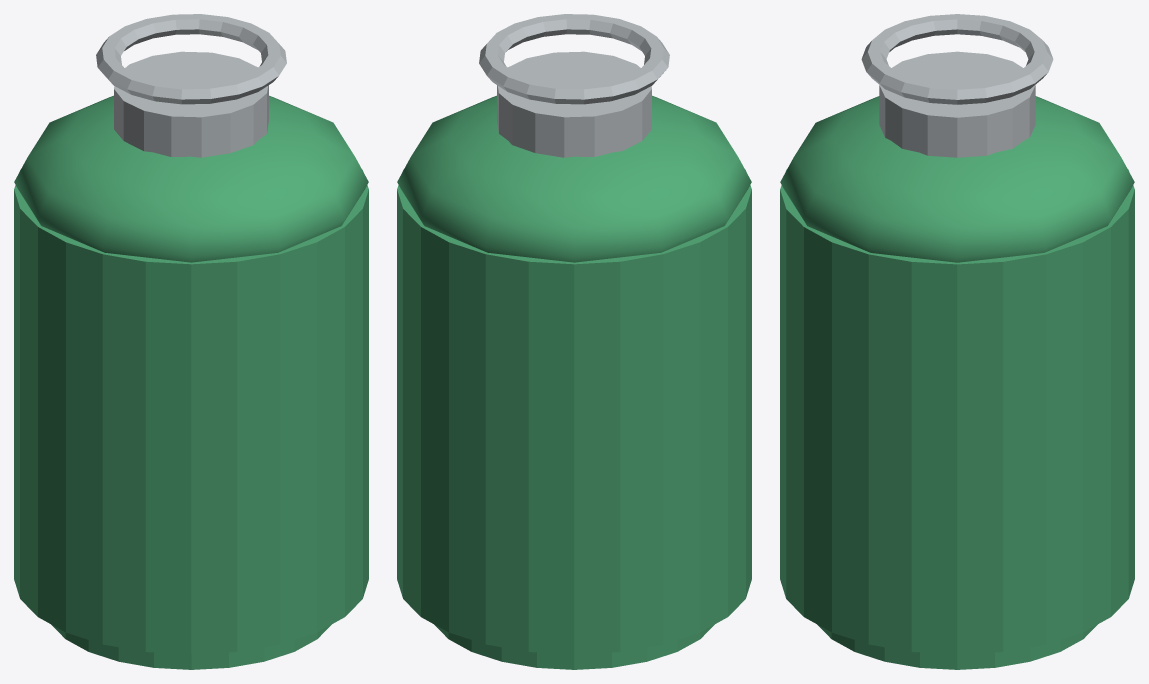
File: gas_cylinder_6kg_green.glb
3 views of the same model, side by side, from view 1: azimuth 30°, elevation 25°; view 2: azimuth 150°, elevation 25°; view 3: azimuth 270°, elevation 25° (orthographic).
Parts seen in each view (by area): view 1: gas bottle, cylinder shoulder, cylinder neck, guard hoop, foot ring; view 2: gas bottle, cylinder shoulder, cylinder neck, guard hoop, foot ring; view 3: gas bottle, cylinder shoulder, cylinder neck, guard hoop, foot ring.
Boxes of the visible parts, <box> form: gas bottle: <box>14,169,368,654</box>; cylinder shoulder: <box>14,95,368,262</box>; cylinder neck: <box>114,51,268,157</box>; guard hoop: <box>96,14,286,104</box>; foot ring: <box>51,624,331,669</box>; gas bottle: <box>397,169,751,654</box>; cylinder shoulder: <box>397,95,751,262</box>; cylinder neck: <box>497,51,651,157</box>; guard hoop: <box>479,14,669,104</box>; foot ring: <box>434,624,714,669</box>; gas bottle: <box>780,169,1134,654</box>; cylinder shoulder: <box>780,96,1134,262</box>; cylinder neck: <box>879,51,1035,157</box>; guard hoop: <box>861,14,1053,104</box>; foot ring: <box>817,624,1097,669</box>.
Bounding box in the file's own units: 0.26 × 0.4502 × 0.26.
